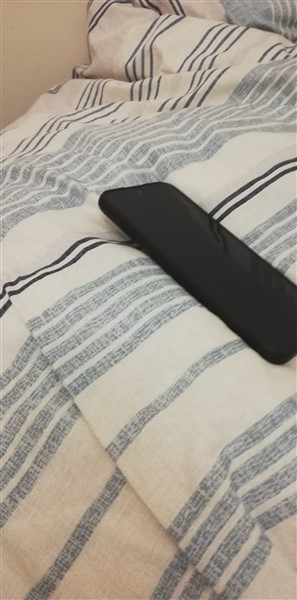telefon: (95, 182, 297, 365)
